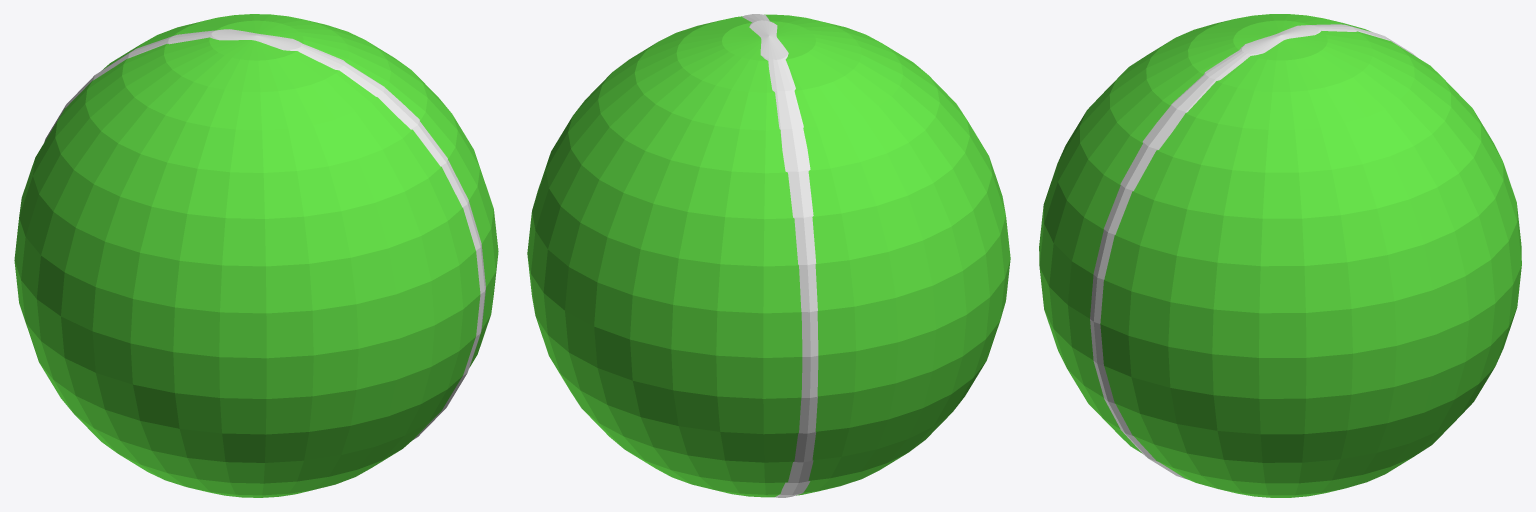
Rendered from tennisball.fbx.
The picture shows the model from 3 angles, left to right: view 1: azimuth 30°, elevation 25°; view 2: azimuth 150°, elevation 25°; view 3: azimuth 270°, elevation 25°; orthographic projection.
Visible parts, largest first — view 1: tennisball; view 2: tennisball; view 3: tennisball.
Part boxes in pixels (x1=…): tennisball: x1=14, y1=14, x2=498, y2=497; tennisball: x1=527, y1=14, x2=1010, y2=497; tennisball: x1=1039, y1=14, x2=1521, y2=497.
Size of the model in its own units: 15.4 by 15.53 by 15.4.
